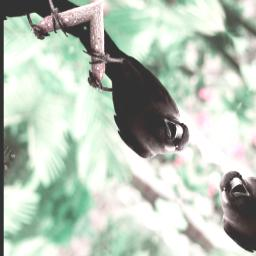Crow: (53, 17, 206, 181)
